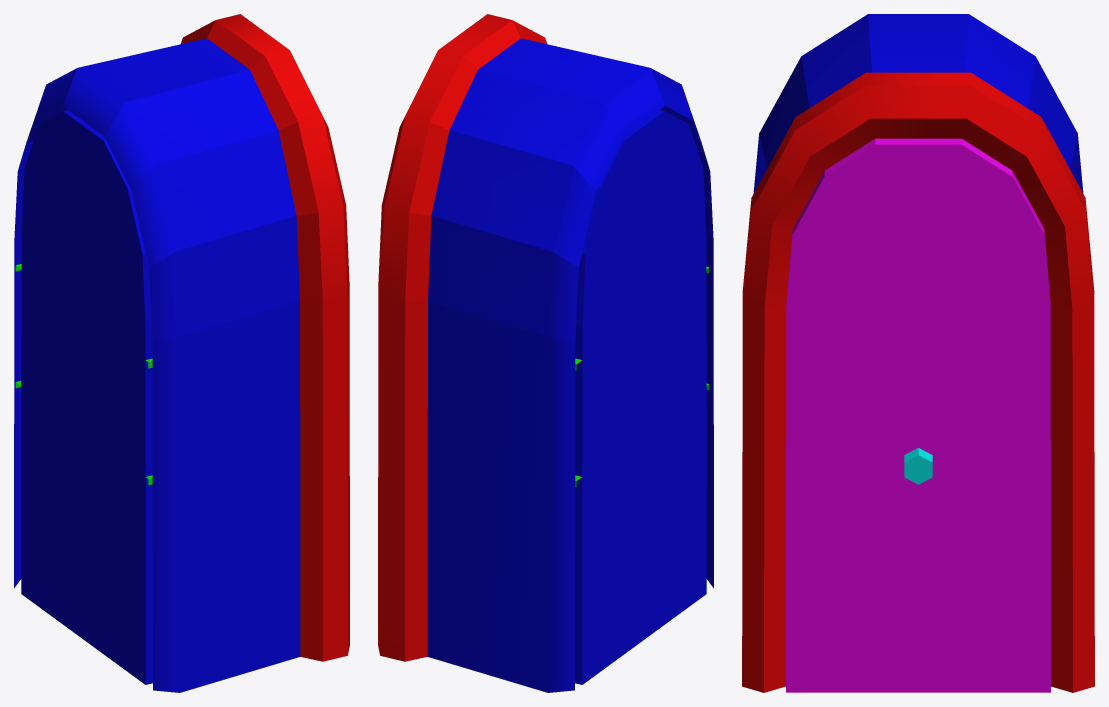
File: Kühlschrank_3_low.fbx
3 views of the same model, side by side, from view 1: azimuth 30°, elevation 25°; view 2: azimuth 150°, elevation 25°; view 3: azimuth 270°, elevation 25° (orthographic). The views are drawn at different scales.
Parts seen in each view (by area): view 1: Kühlschrank_3_low; view 2: Kühlschrank_3_low; view 3: Kühlschrank_3_low.
Boxes of the visible parts, box(x1,y1,x2,y2) form: Kühlschrank_3_low: box(14, 14, 349, 692); Kühlschrank_3_low: box(378, 14, 713, 692); Kühlschrank_3_low: box(742, 14, 1094, 692).
Size of the model in its own units: 0.7128 by 1.85 by 0.9832.
